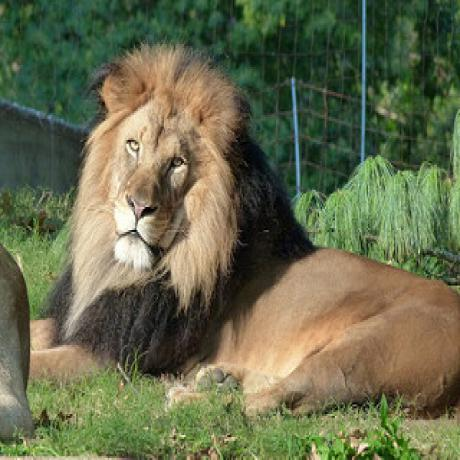Lion: (47, 40, 460, 435)
